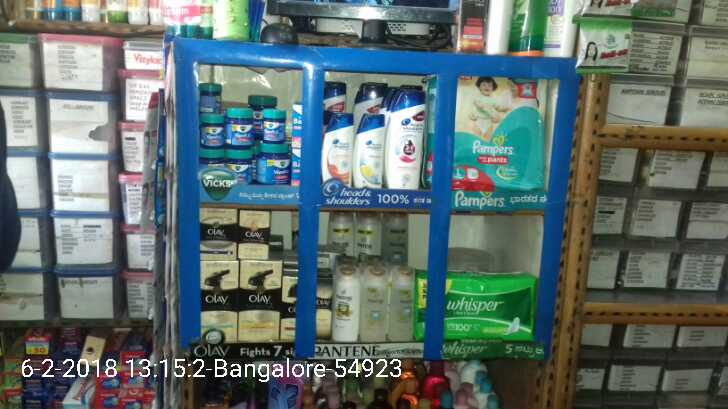beauty: (238, 258, 281, 336), (385, 91, 417, 191), (200, 260, 238, 341), (314, 110, 352, 182), (354, 113, 384, 186), (360, 270, 388, 347), (332, 262, 359, 340), (387, 266, 412, 344), (235, 210, 271, 258)
pharmacy: (427, 73, 545, 192), (412, 267, 533, 341), (254, 144, 294, 188), (257, 105, 289, 142), (227, 109, 256, 149)
